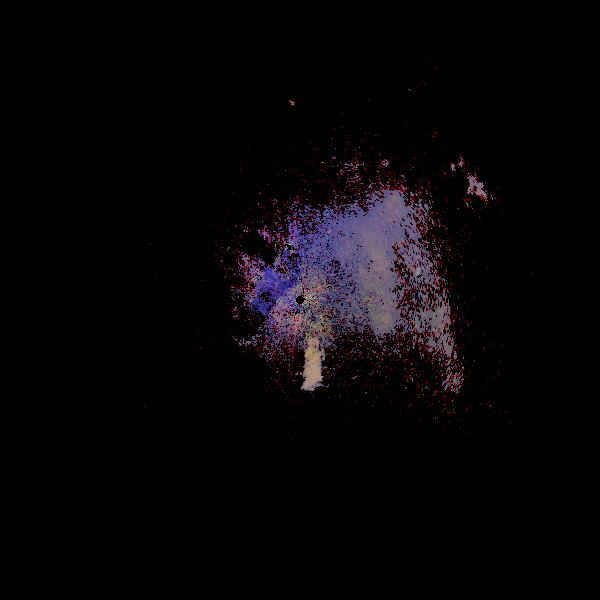roost: (266, 329, 338, 401)
